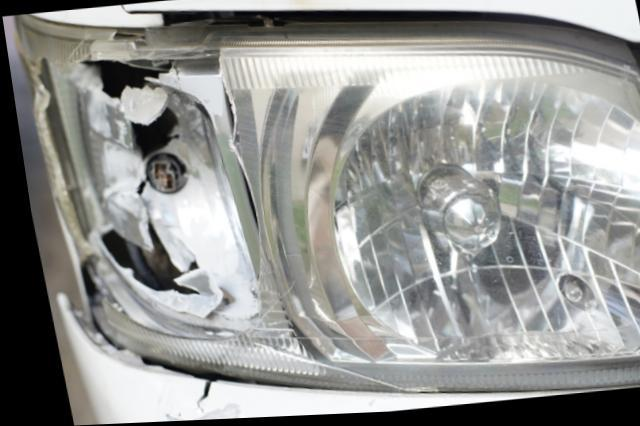crack: (184, 383, 199, 414)
lamp broken: (14, 14, 640, 397)
scratch: (147, 398, 240, 423)
